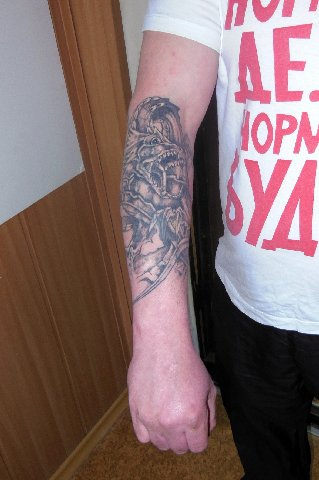tatu6_drakon: (101, 70, 227, 314)
